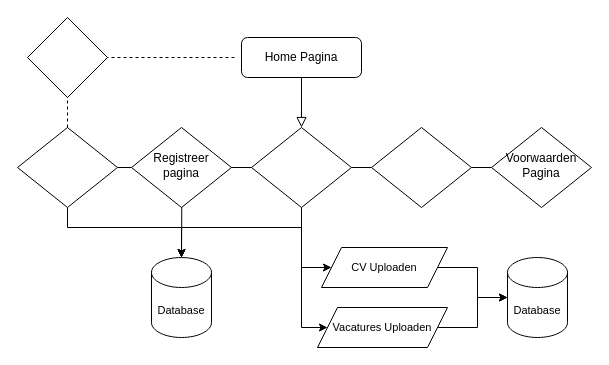
The diagram is 609 pixels wide and 365 high, and some of its shapes have lost their labels. The shapes that lost their labels are listed below. From the top down, each one's centre as x and y in pixels, then its label:
At point 67,57: "Uitloggen".
At point 67,167: "Login Pagina".
At point 301,167: "Vacatures Pagina".
At point 421,167: "Voorlichting Pagina".
